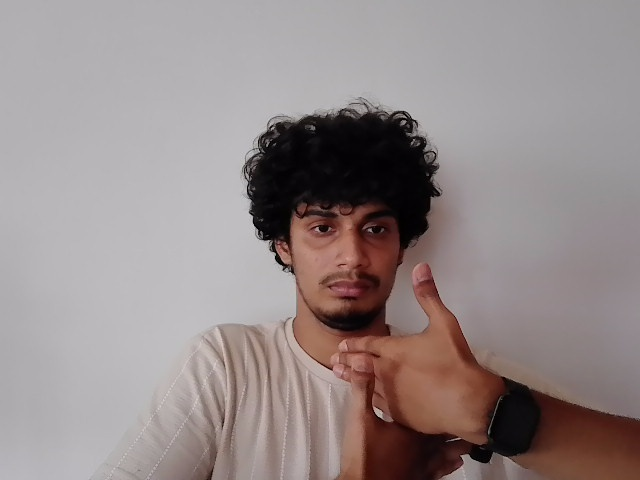work: (314, 261, 497, 480)
